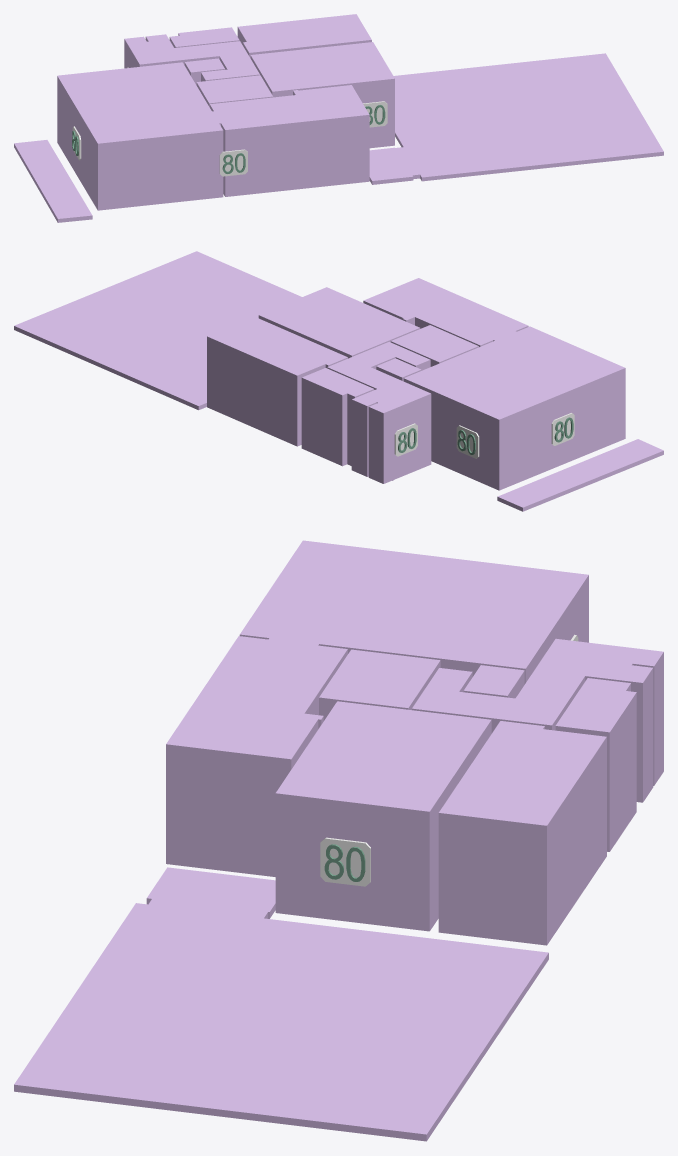
3 views of the same model, one above another, from view 1: azimuth 30°, elevation 25°; view 2: azimuth 150°, elevation 25°; view 3: azimuth 270°, elevation 25° (orthographic). The views are drawn at different scales.
Parts seen in each view (by area): view 1: g_8, g_7, g_2, g_1, g_0, g_5, g_9, g_3, g_6, g_18, g_4, g_15; view 2: g_7, g_8, g_0, g_5, g_1, g_2, g_6, g_9, g_3, g_4, g_27, g_24 (+1 smaller); view 3: g_8, g_1, g_7, g_0, g_2, g_5, g_6, g_3, g_12, g_4.
Boxes of the visible parts, x1,y1,x2,y2 form: g_8: (369, 53, 663, 184); g_7: (57, 62, 223, 210); g_2: (209, 85, 369, 196); g_1: (250, 42, 394, 148); g_0: (237, 14, 371, 57); g_5: (124, 34, 259, 81); g_9: (14, 140, 92, 222); g_3: (196, 75, 273, 106); g_6: (169, 27, 239, 47); g_18: (219, 149, 247, 176); g_4: (184, 58, 224, 84); g_15: (363, 101, 387, 127); g_7: (403, 326, 625, 490); g_8: (14, 251, 301, 410); g_0: (207, 316, 347, 446); g_5: (327, 342, 431, 483); g_1: (258, 287, 420, 358); g_2: (363, 278, 528, 346); g_6: (301, 368, 374, 466); g_9: (497, 439, 663, 511); g_3: (390, 325, 478, 366); g_4: (376, 358, 421, 381); g_27: (456, 425, 479, 458); g_24: (394, 423, 417, 456); g_8: (14, 867, 548, 1141); g_1: (275, 701, 491, 931); g_7: (239, 540, 588, 684); g_0: (438, 721, 606, 945); g_2: (166, 636, 347, 876); g_5: (412, 638, 663, 802); g_6: (555, 678, 636, 851); g_3: (319, 649, 440, 720); g_12: (320, 837, 370, 886); g_4: (463, 665, 524, 698).
Size of the model in its own units: 23.38 by 2.74 by 12.67.
